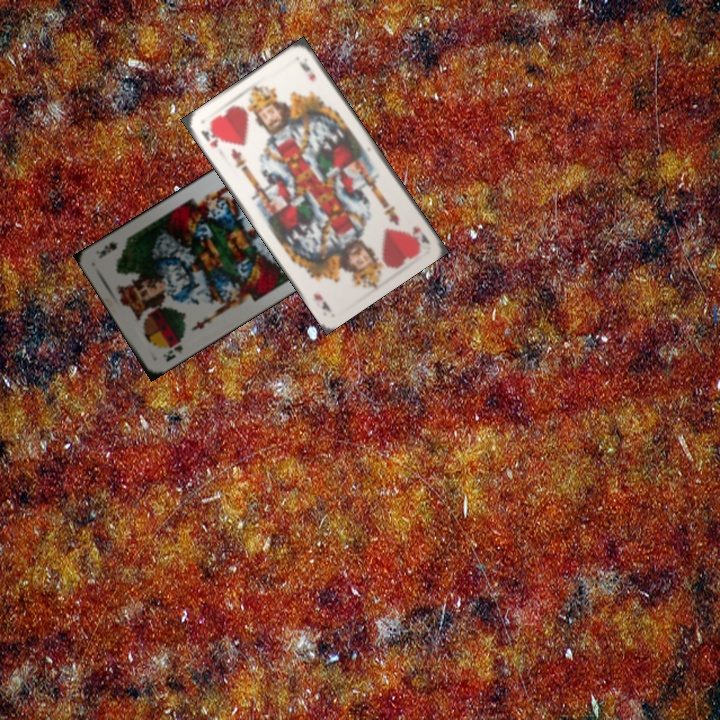HK: (197, 120, 221, 150), (408, 223, 432, 248)
SK: (159, 340, 185, 364)
